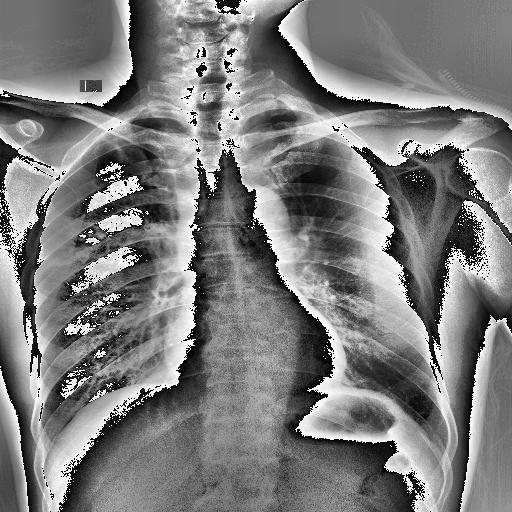0- Aortic enlargement: (228, 182, 290, 246), (224, 188, 292, 241)
13- Pulmonary fibrosis: (42, 216, 108, 268), (48, 216, 108, 264), (50, 223, 110, 270), (103, 138, 149, 186)
7- Lung Opacity: (302, 168, 428, 358), (310, 172, 424, 352)
